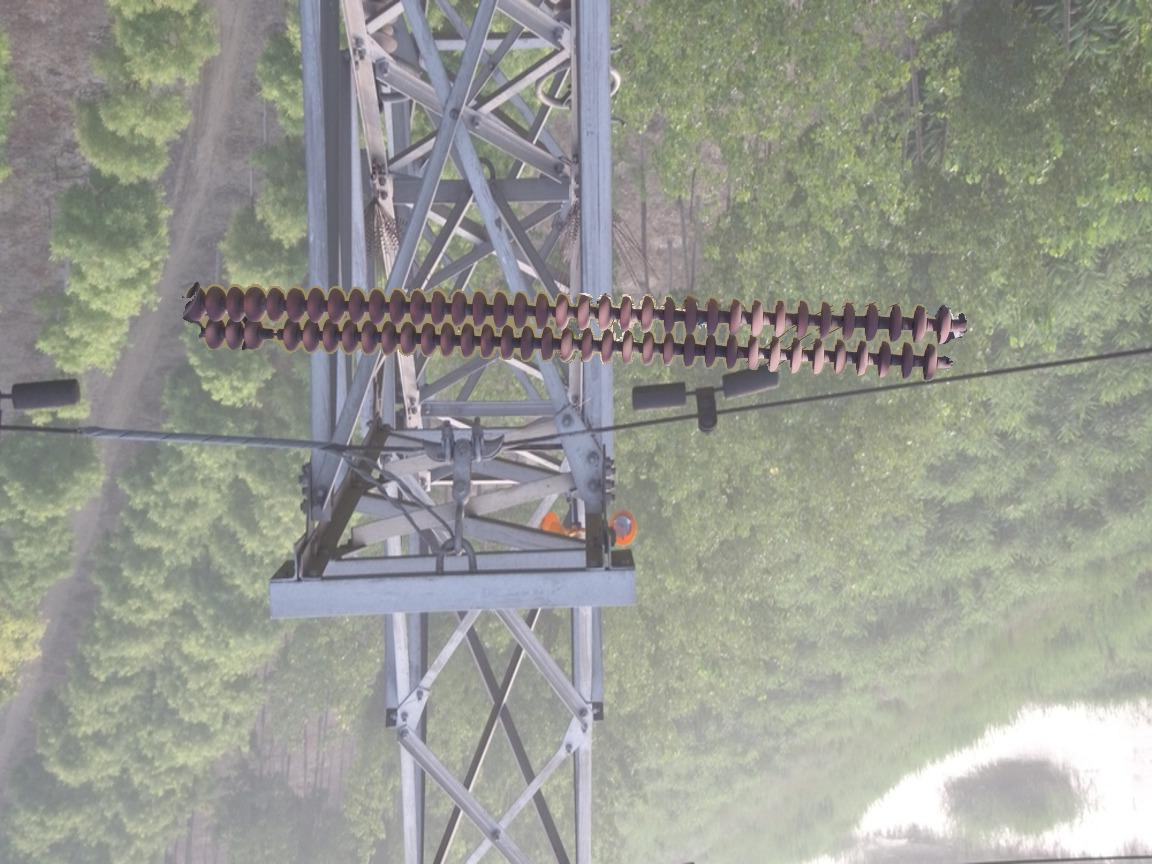insulator: (184, 281, 962, 392)
insulator_stringdrop: (239, 317, 303, 354)
